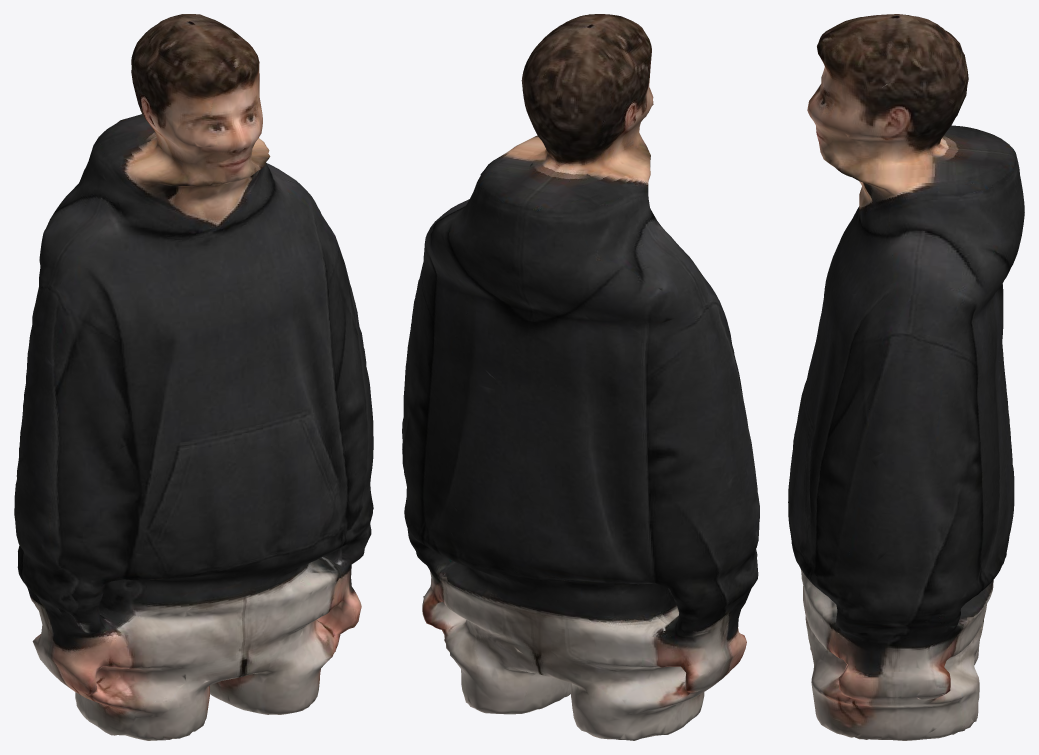
Rendered from coal-model.glb.
The picture shows the model from 3 angles, left to right: view 1: azimuth 30°, elevation 25°; view 2: azimuth 150°, elevation 25°; view 3: azimuth 270°, elevation 25°; orthographic projection.
Visible parts, largest first — view 1: geometry_0; view 2: geometry_0; view 3: geometry_0.
Boxes of the visible parts, x1,y1,x2,y2 form: geometry_0: (14,14,373,740); geometry_0: (402,14,759,740); geometry_0: (788,14,1024,740).
Bounding box in the file's own units: 0.4794 × 0.9376 × 0.298.
1 material, 1 textured.
